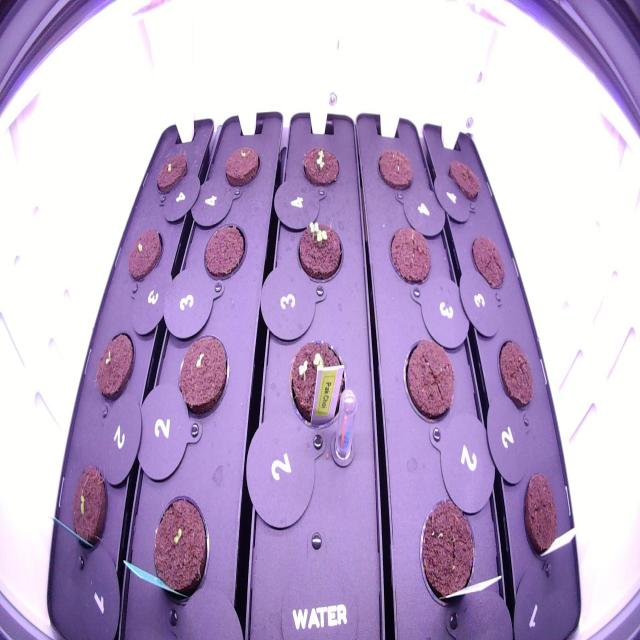germination: (143, 485, 215, 611), (286, 330, 351, 436), (172, 322, 233, 424), (60, 456, 114, 566), (290, 209, 350, 288), (91, 318, 140, 409), (292, 138, 347, 196), (150, 144, 192, 202)
pod: (412, 491, 482, 615), (398, 331, 460, 429), (517, 464, 564, 569), (490, 332, 539, 421), (382, 215, 437, 294), (199, 213, 252, 294), (465, 224, 511, 299), (123, 221, 168, 291), (442, 148, 484, 212), (373, 142, 420, 196), (221, 137, 265, 194)
